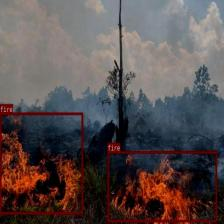fire: (0, 112, 83, 214), (107, 151, 217, 221)
